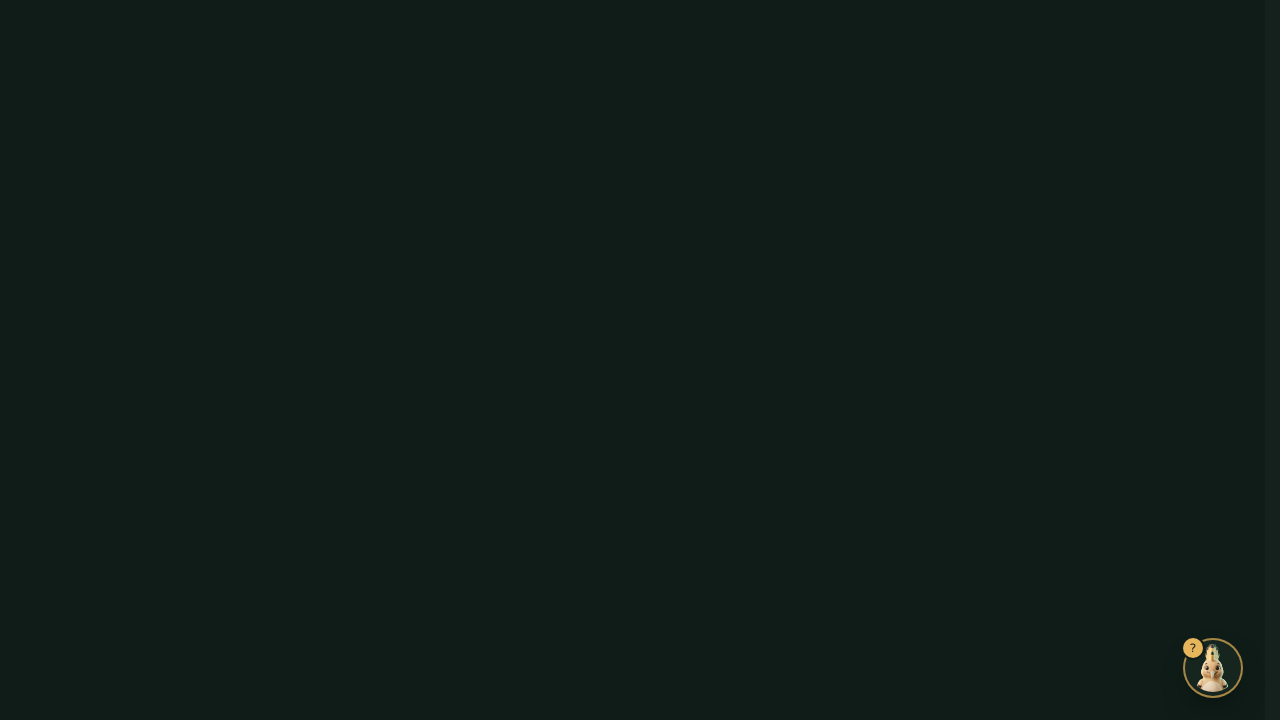
Test case: SupportChat — the launcher and the panel › the 'not sure' answer brings the chips back and offers a ticket; an error is shown as an alert
Click the button named "שאלות ותמיכה" at (1213, 668), box left=1185, top=640, right=1241, bottom=696
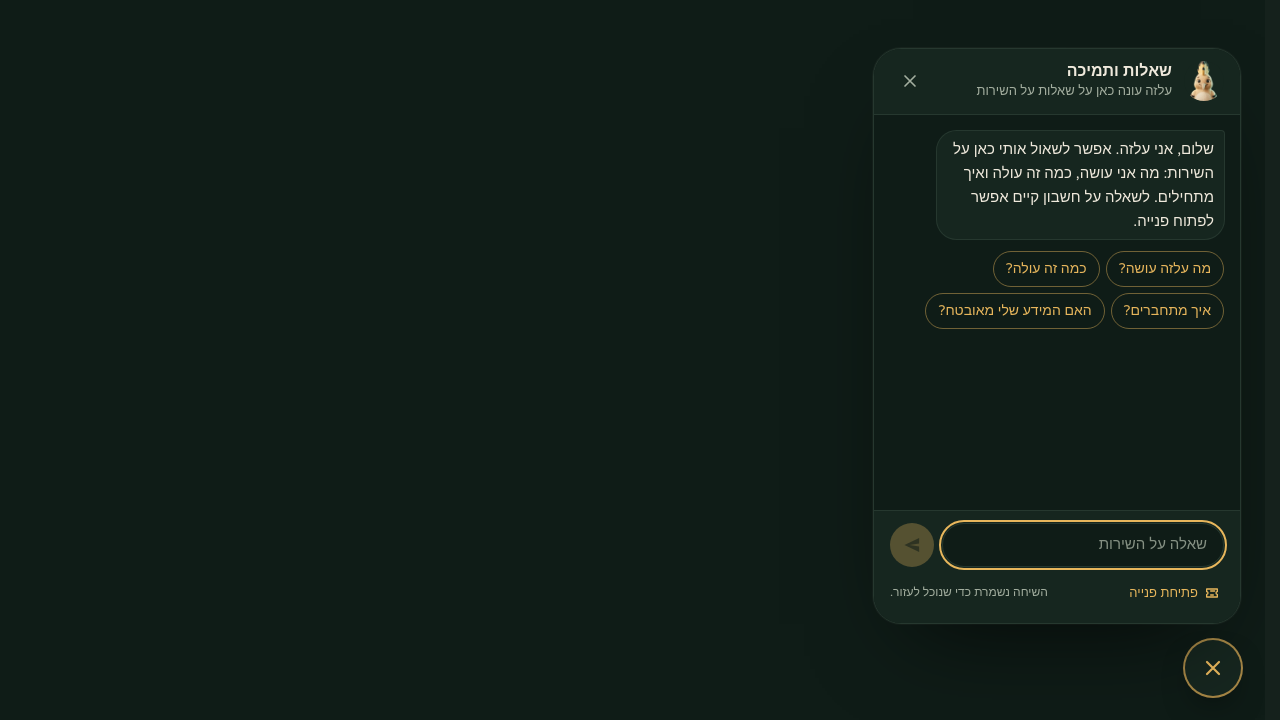
Type "מה מזג האוויר?" into the text box labelled "שאלה" at (1083, 545), box left=942, top=523, right=1224, bottom=567
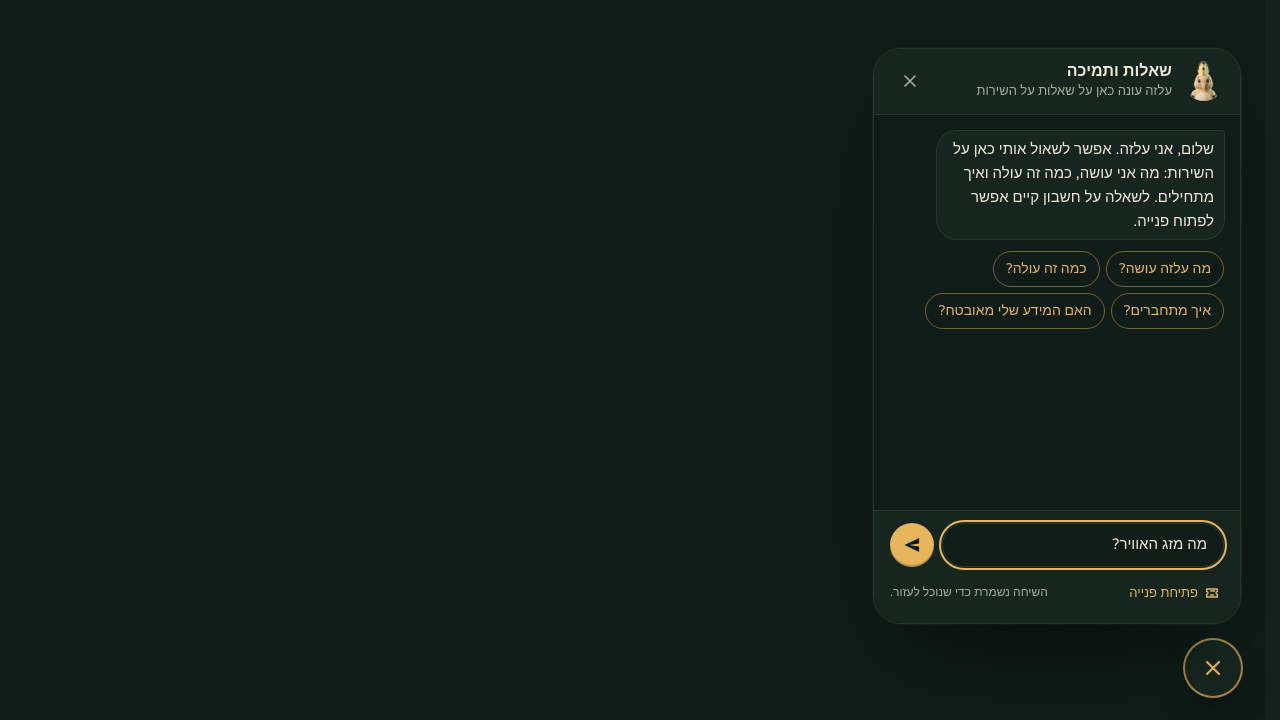
Press Enter in the text box named "שאלה", box left=942, top=523, right=1224, bottom=567
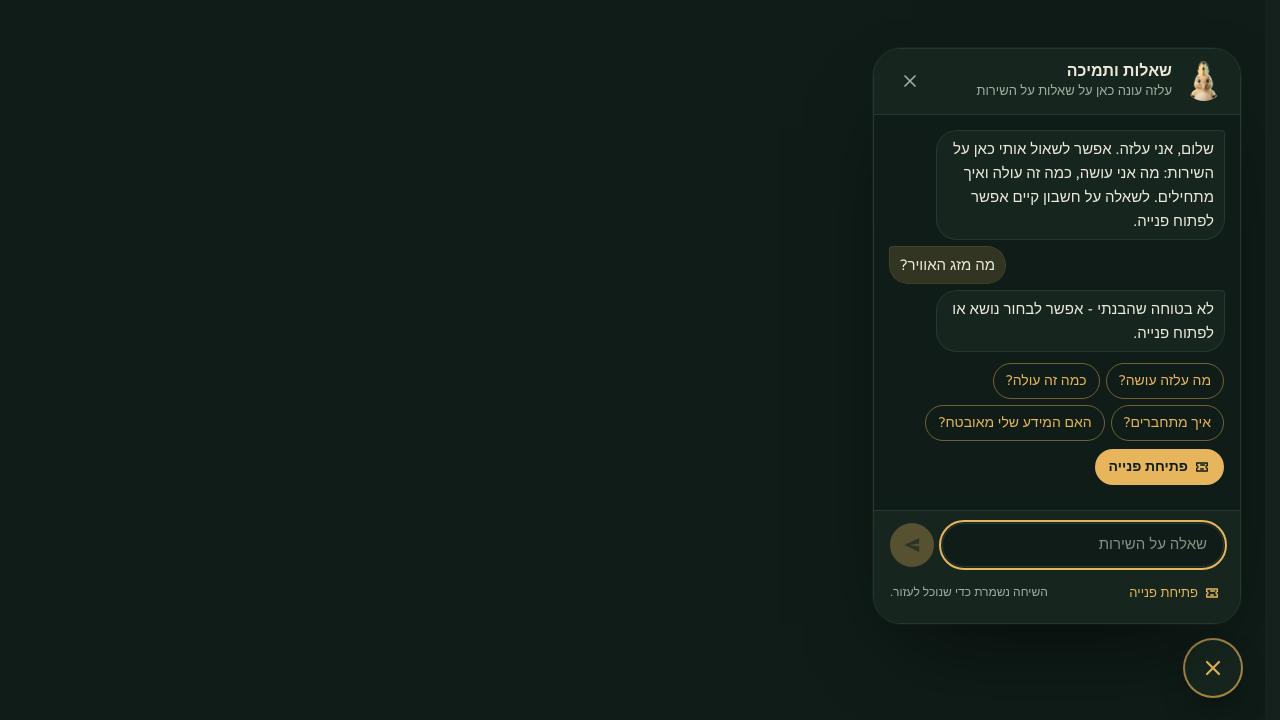
expect the list named "נושאים" is shown: met, box left=890, top=359, right=1224, bottom=441
expect the text "לא בטוחה שהבנתי - אפשר לבחור נושא או לפתוח פנייה." is shown: met, box left=937, top=291, right=1224, bottom=351
expect the number of buttons "פתיחת פנייה" is 2: met, box left=1095, top=449, right=1224, bottom=485; left=1125, top=575, right=1224, bottom=611
Click the button "איך מתחברים?" at (1167, 423), box left=1111, top=405, right=1224, bottom=441
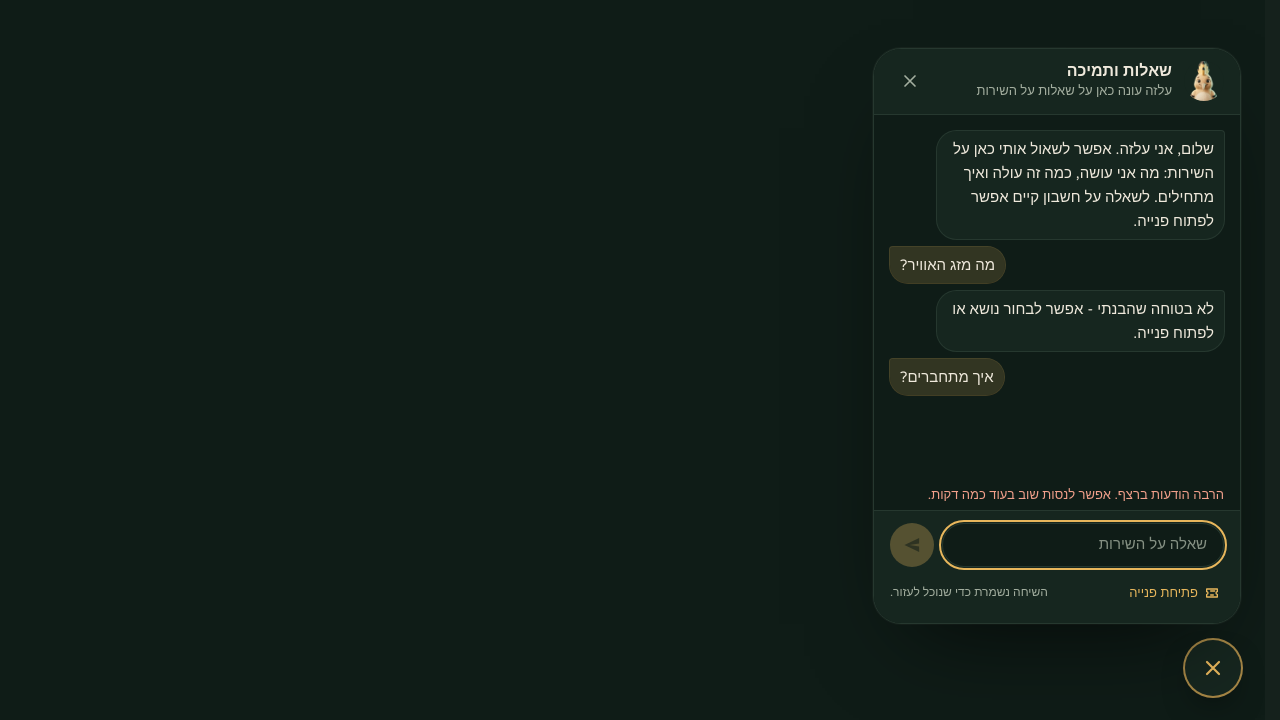
expect the message shows "הרבה הודעות ברצף": met, box left=928, top=487, right=1224, bottom=503
